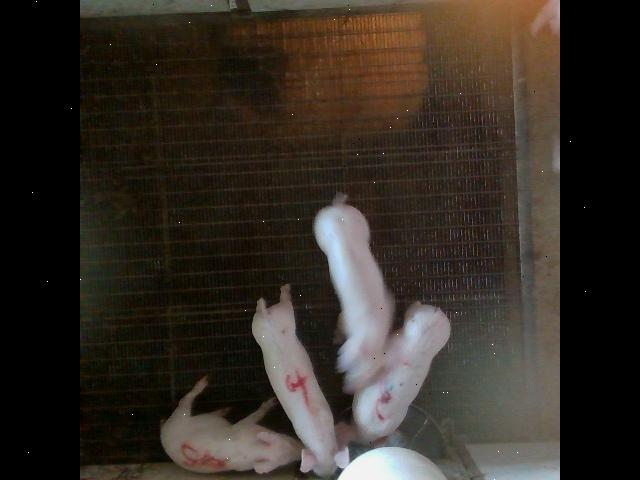pig-3: (352, 301, 449, 442)
pig-4: (252, 284, 349, 475)
pig-5: (161, 376, 302, 472)
